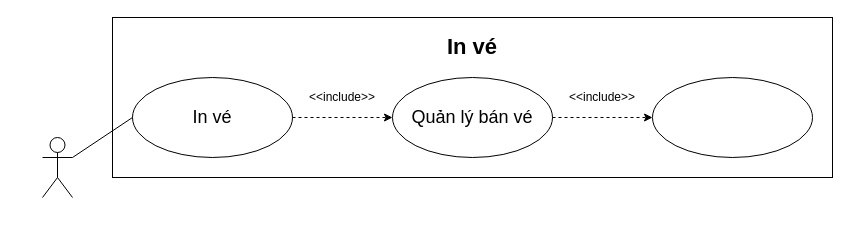
The diagram is 850 pixels wide and 244 high, and some of its shapes have lost their labels. The centre of each missing label's shape, as x and y in pixels:
"Login" goes at (x=732, y=117).
"Nhân viên" goes at (x=57, y=167).
